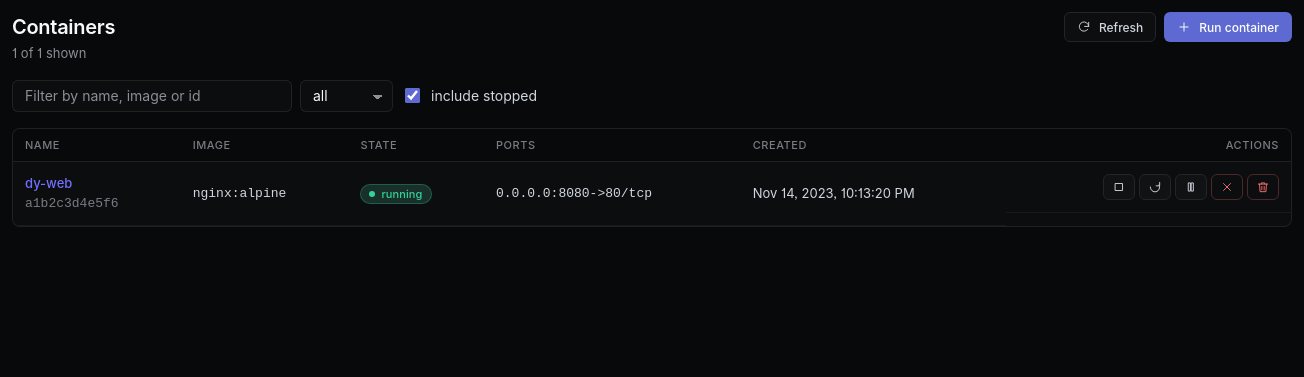
Test: load failure vs empty state › distinguishes "nothing matches the filter" from "nothing exists"
Expected: the link "dy-web" is shown, [25,174,72,194]
Type "zzz" into the search field named "Filter containers" at (152, 96), box [12,80,292,112]
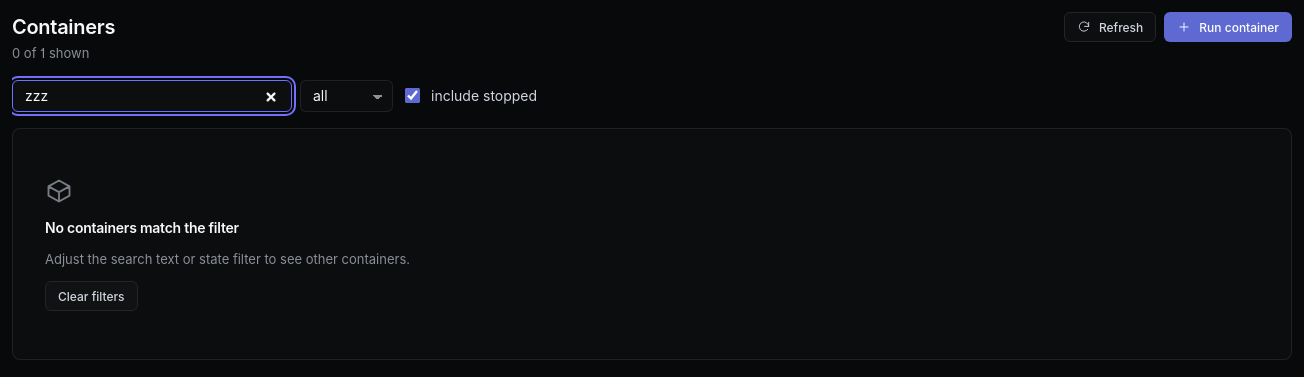
Now the heading "No containers match the filter" is shown, box [45,216,239,238]
Now the button "Clear filters" is shown, box [45,281,138,311]
